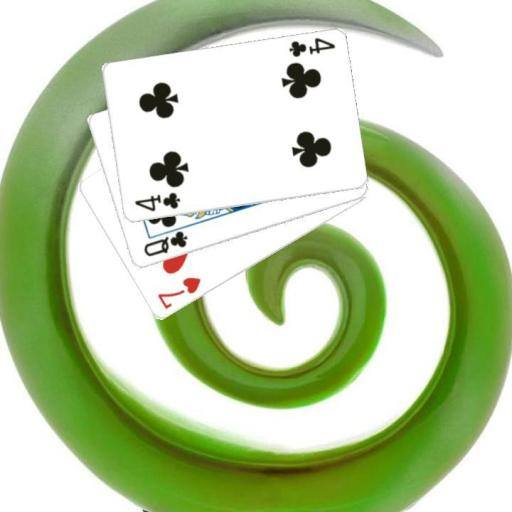4C: (286, 34, 337, 59), (131, 189, 181, 213)
7H: (154, 274, 203, 311)
QC: (140, 228, 189, 259)
